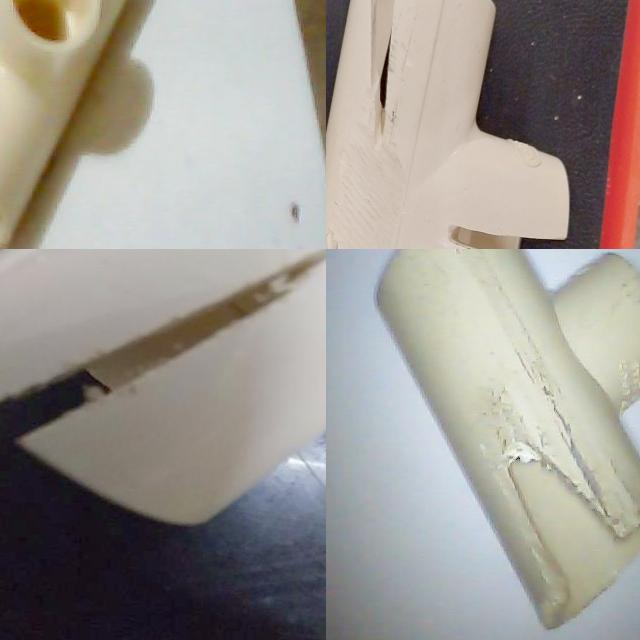Defective: (0, 328, 194, 462), (510, 462, 633, 596), (154, 281, 282, 355), (260, 249, 326, 298)
T Joint: (375, 249, 640, 633), (326, 3, 430, 249), (468, 190, 499, 249)
